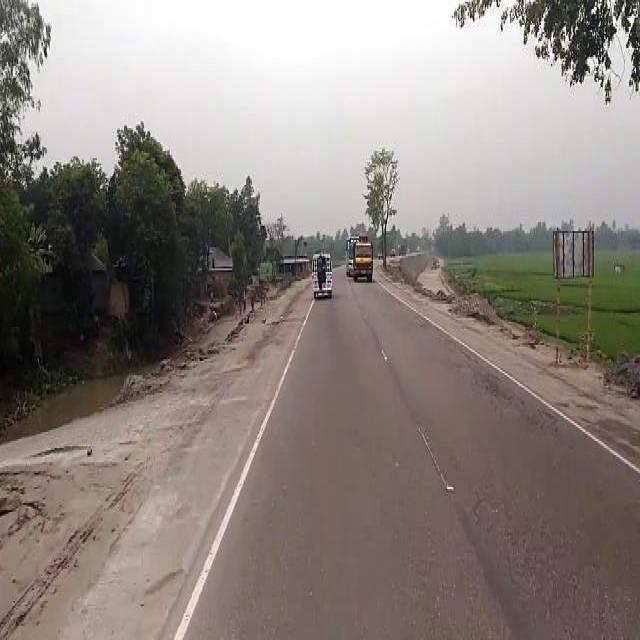bus: (309, 247, 332, 297), (344, 233, 357, 274)
truck: (351, 236, 372, 282)
